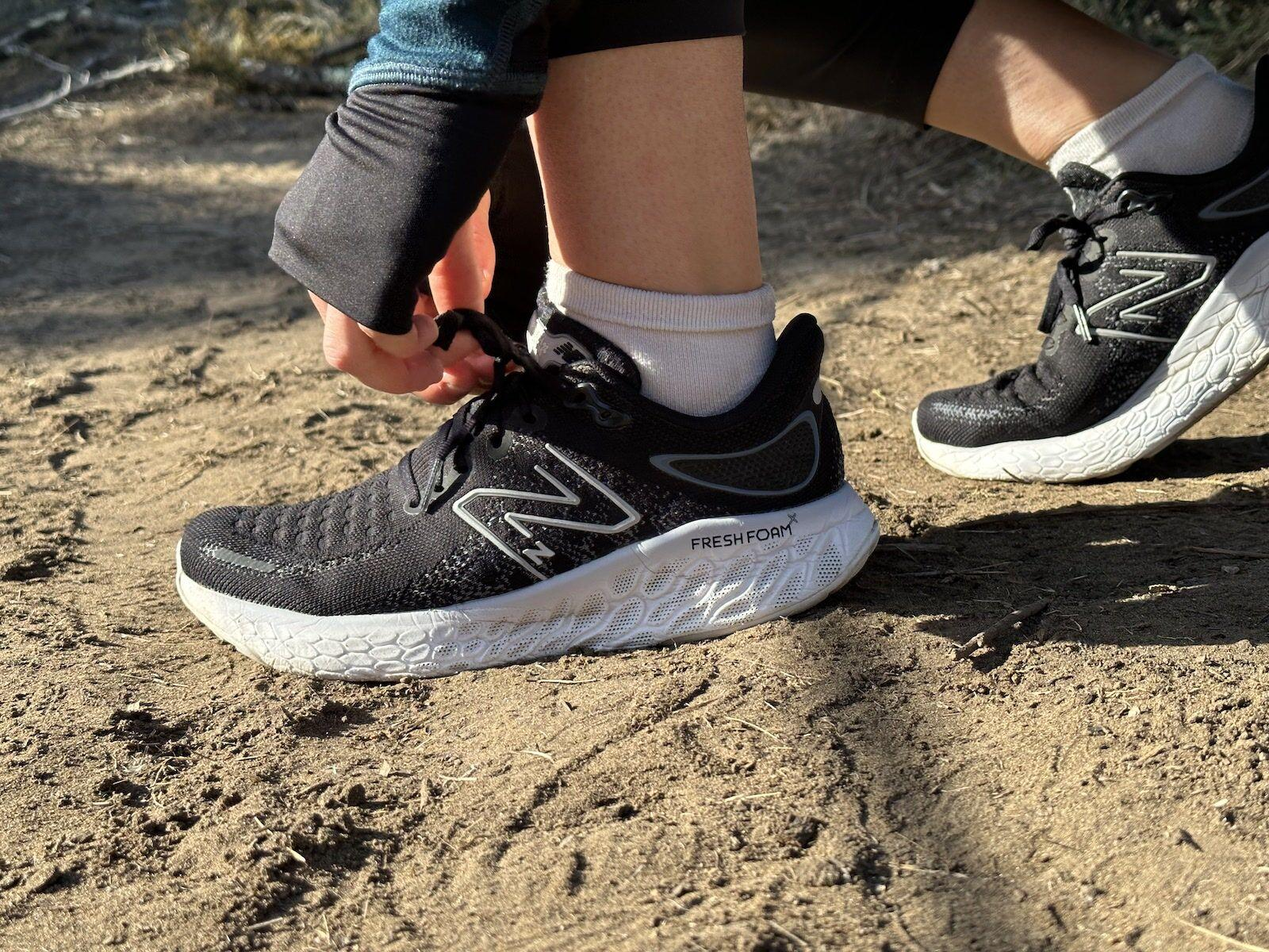NB logo: (427, 426, 672, 598), (1068, 233, 1231, 361)
